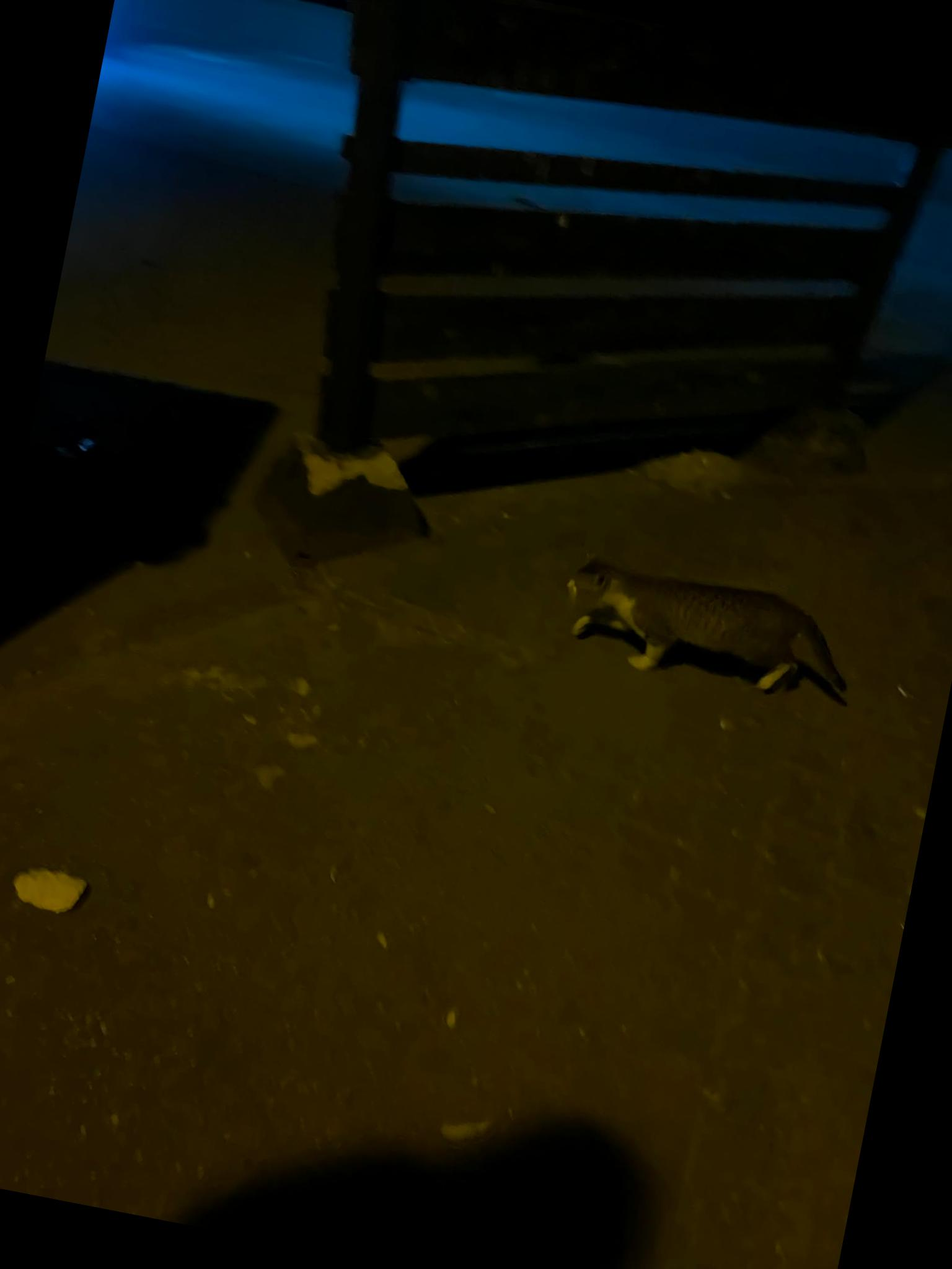macka: (553, 544, 866, 710)
